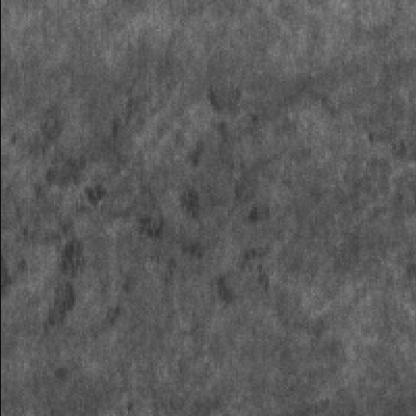rolled-in_scale: (46, 172, 266, 328)
